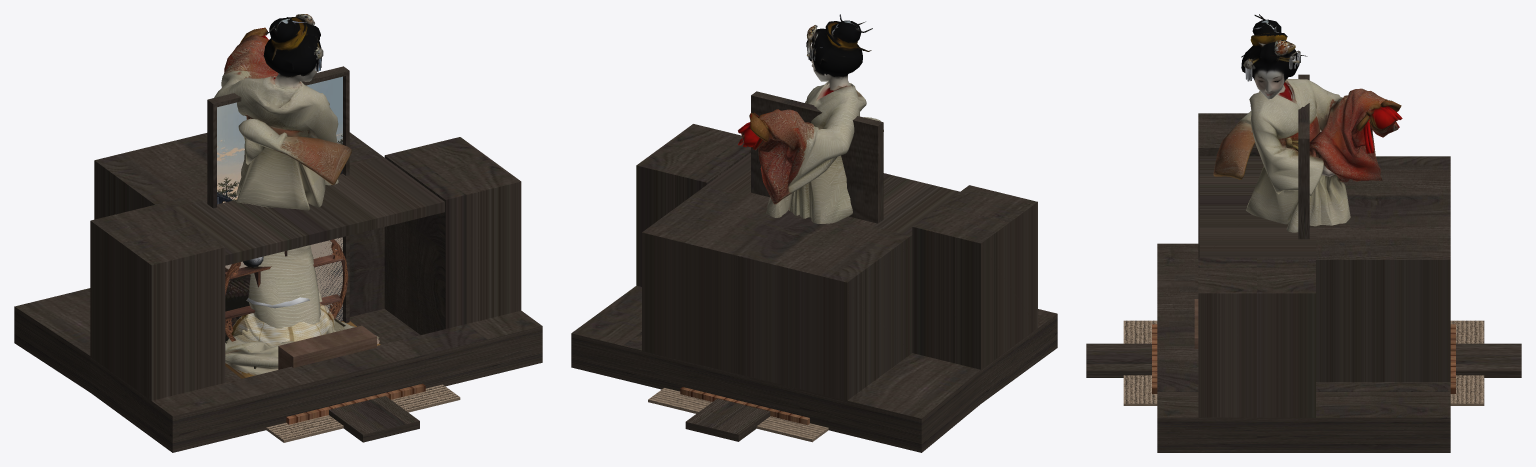
The model's file is novopo_furniture.glb.
The picture shows the model from 3 angles, left to right: view 1: azimuth 30°, elevation 25°; view 2: azimuth 150°, elevation 25°; view 3: azimuth 270°, elevation 25°; orthographic projection. The views are drawn at different scales.
Parts seen in each view (by area): view 1: jp_table_geo, jp_geisha, jp_art_street, jp_art_roofs, jp_shelf_ledge, jp_wood_bench, jp_mat_a, jp_moongate, jp_paper_lantern, jp_slat_mat; view 2: jp_table_geo, jp_geisha, jp_art_street, jp_shelf_ledge, jp_mat_a, jp_slat_mat; view 3: jp_table_geo, jp_geisha, jp_shelf_ledge, jp_mat_a, jp_art_street, jp_slat_mat.
Boxes of the visible parts, <box> form: jp_table_geo: <box>14,132,542,452</box>; jp_geisha: <box>214,14,380,378</box>; jp_art_street: <box>207,66,349,322</box>; jp_art_roofs: <box>225,235,349,342</box>; jp_shelf_ledge: <box>329,396,419,442</box>; jp_wood_bench: <box>278,325,376,369</box>; jp_mat_a: <box>266,384,460,442</box>; jp_moongate: <box>225,239,348,341</box>; jp_paper_lantern: <box>231,303,334,346</box>; jp_slat_mat: <box>286,383,425,424</box>; jp_table_geo: <box>571,124,1057,452</box>; jp_geisha: <box>738,14,883,223</box>; jp_art_street: <box>751,91,883,223</box>; jp_shelf_ledge: <box>685,398,770,441</box>; jp_mat_a: <box>648,388,828,442</box>; jp_slat_mat: <box>680,387,809,425</box>; jp_table_geo: <box>1157,113,1450,452</box>; jp_geisha: <box>1213,14,1402,232</box>; jp_shelf_ledge: <box>1086,343,1521,377</box>; jp_mat_a: <box>1123,320,1484,405</box>; jp_art_street: <box>1298,74,1309,239</box>; jp_slat_mat: <box>1152,324,1455,393</box>.
Size of the model in its own units: 5.51 by 4.9 by 5.74.
13 materials, 13 textured.
